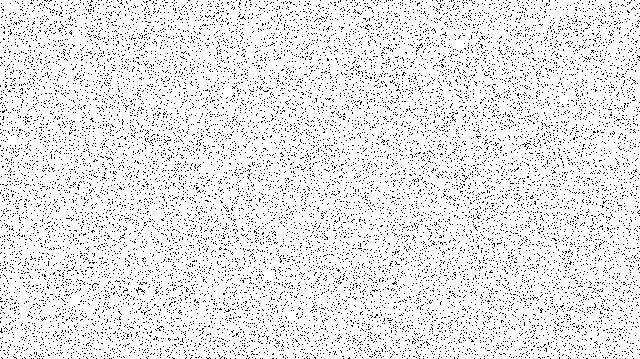pot: (304, 66, 438, 196)
